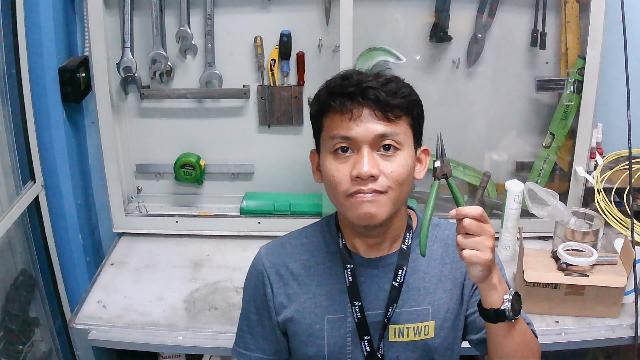tang_cucut_lancip_2: (417, 126, 470, 260)
